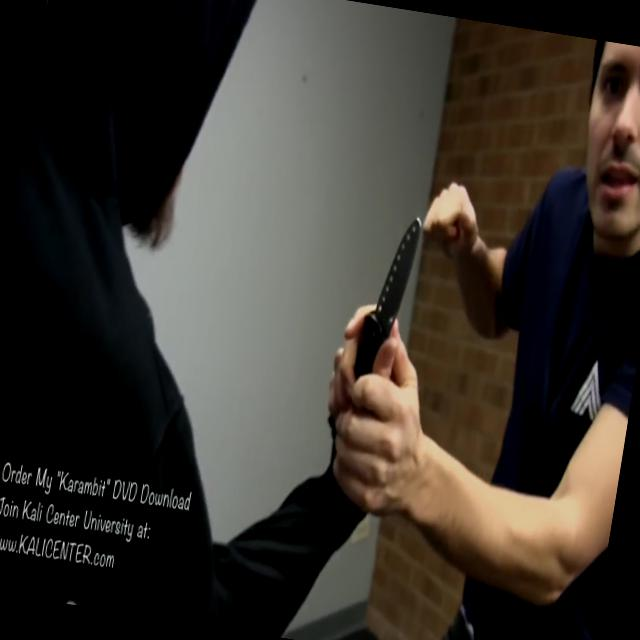knife: (320, 196, 428, 425)
